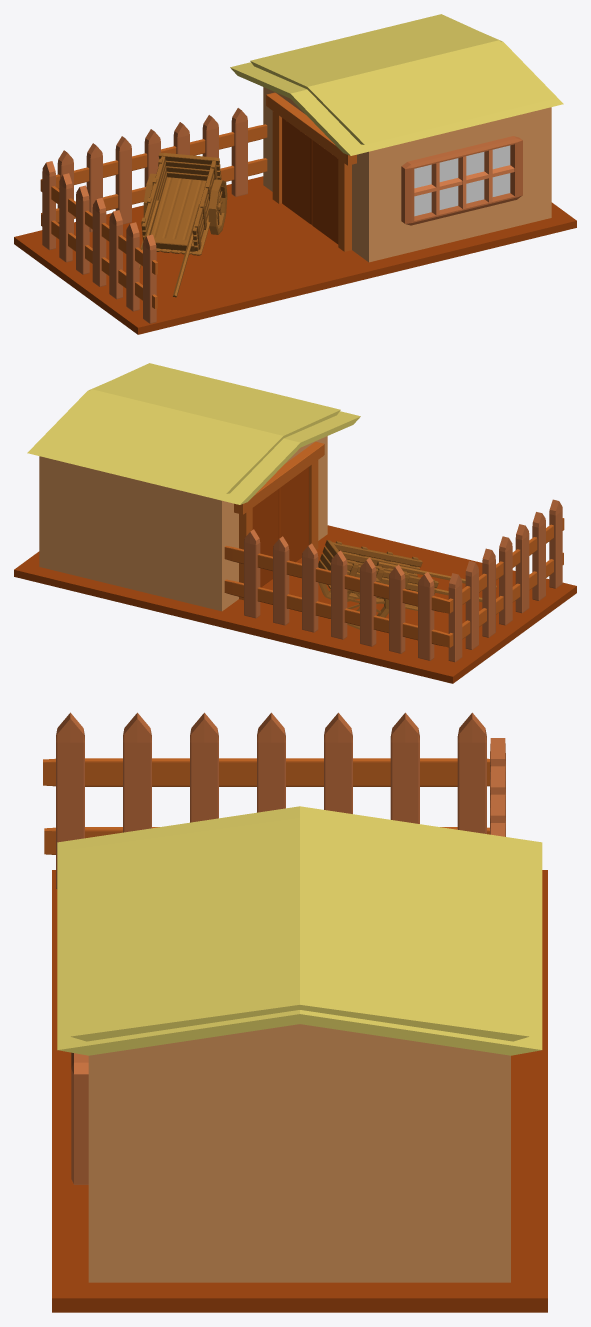
Rendered from barn.fbx.
3 views of the same model, one above another, from view 1: azimuth 30°, elevation 25°; view 2: azimuth 150°, elevation 25°; view 3: azimuth 270°, elevation 25° (orthographic). The views are drawn at different scales.
Parts seen in each view (by area): view 1: Cube.002, Cube.004, Cube, Cube.014, Cube.008, Cube.001, Cube.003, Cube.005, Cube.015, Cube.001_Cube.002, Cube.006, Cube.009 (+10 smaller); view 2: Cube, Cube.004, Cube.002, Cube.008, Cube.014, Cube.003, Cube.001, Cube.011, Cube.010, Cube_Cube.001, Cube.007, Cube.006 (+4 smaller); view 3: Cube, Cube.004, Cube.002, Cube.014, Cube.003, Cube.012, Cube.005, Cube.008.
Part boxes in pixels (x1,y1,x2,y2): Cube.002: (14,176,576,334); Cube.004: (250,14,555,144); Cube: (263,87,551,262); Cube.014: (42,161,156,323); Cube.008: (57,108,247,234); Cube.001: (282,118,338,244); Cube.003: (230,35,563,155); Cube.005: (401,136,522,225); Cube.015: (414,145,510,216); Cube.001_Cube.002: (140,177,210,255); Cube.006: (272,111,351,251); Cube.009: (414,150,514,215); Cube: (39,436,327,611); Cube.004: (35,363,340,493); Cube.002: (14,525,576,683); Cube.008: (244,529,434,660); Cube.014: (448,499,562,662); Cube.003: (27,384,360,504); Cube.001: (252,467,308,587); Cube.011: (224,579,450,647); Cube.010: (224,545,449,613); Cube_Cube.001: (332,542,438,598); Cube.007: (234,441,324,514); Cube.006: (239,460,318,600); Cube: (88,1024,510,1282); Cube.004: (70,818,529,1041); Cube.002: (52,870,547,1312); Cube.014: (56,712,486,888); Cube.003: (57,806,542,1055); Cube.012: (43,758,489,786); Cube.005: (71,1052,88,1184); Cube.008: (490,738,505,836).
Size of the model in its own units: 1503 by 478 by 749.
